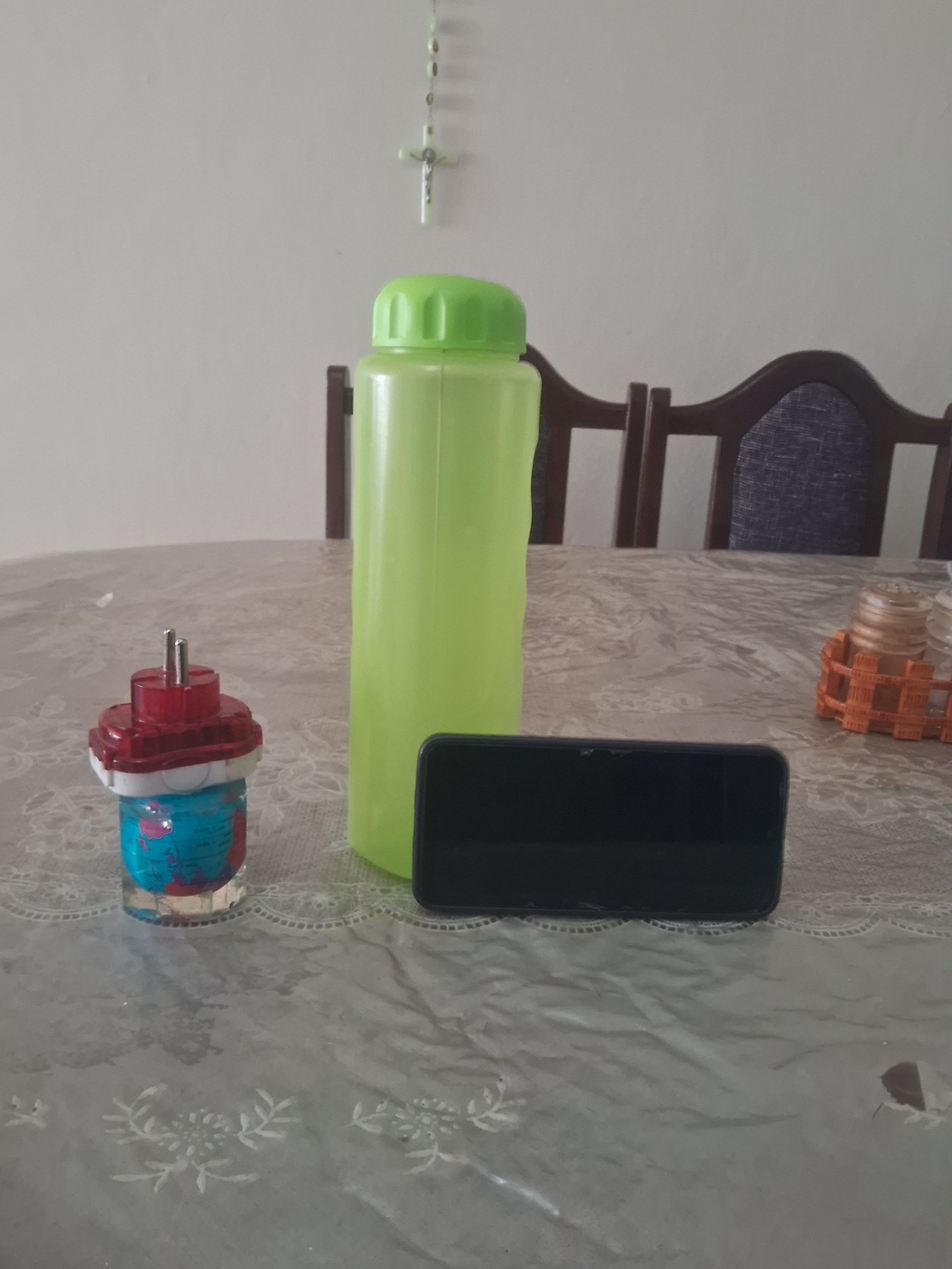Multi_adapter: (87, 623, 267, 797)
Smart_phone: (404, 726, 794, 926)
Water_bottle: (342, 267, 548, 881)
world_globe: (114, 776, 252, 924)
